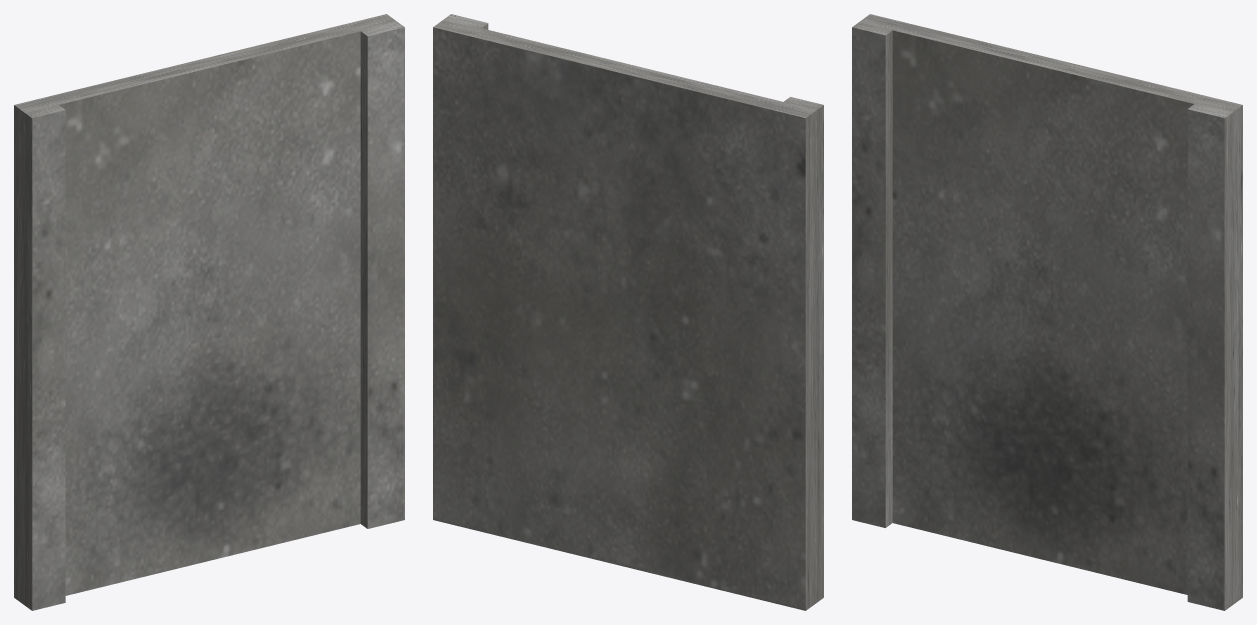
File: Pared_4.glb
3 renders of one model, left to right at view 1: azimuth 30°, elevation 25°; view 2: azimuth 150°, elevation 25°; view 3: azimuth 330°, elevation 25°, orthographic.
Parts seen in each view (by area): view 1: Cube.004; view 2: Cube.004; view 3: Cube.004.
Part boxes in pixels (left/top/right/bottom): Cube.004: left=14, top=14, right=404, bottom=610; Cube.004: left=433, top=14, right=823, bottom=610; Cube.004: left=852, top=14, right=1242, bottom=610.
Bounding box in the file's own units: 23.5 × 29.68 × 1.98.
Materials: 1 (1 with a texture image).
